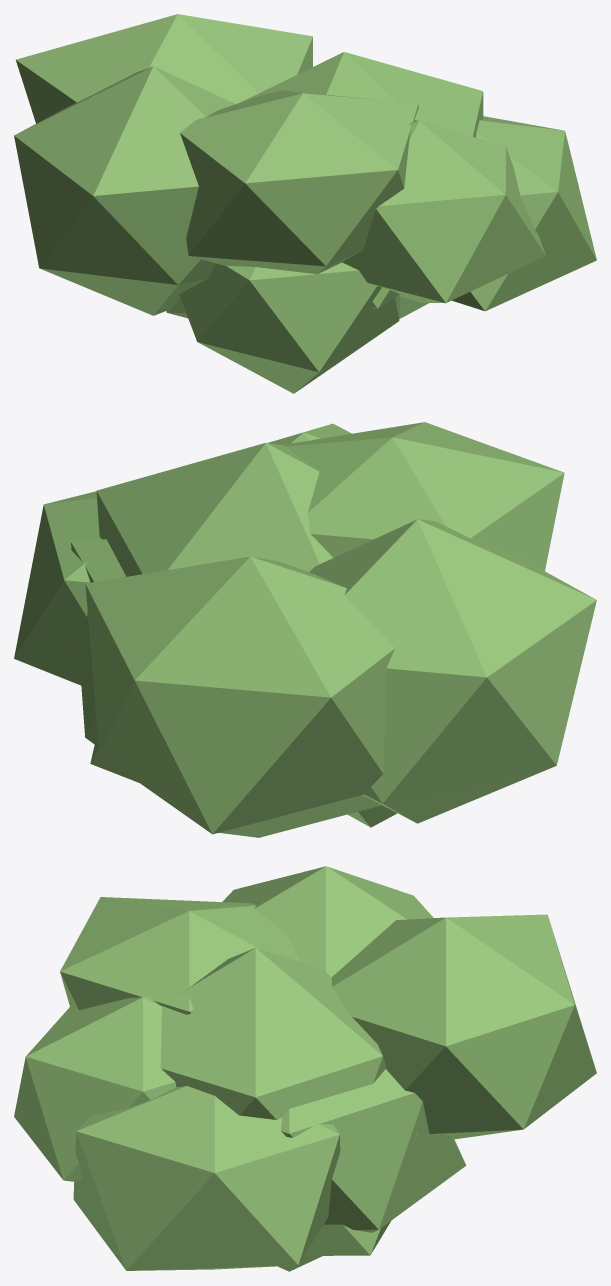
Rendered from bush_1.glb.
3 renders of one model, top to bottom at view 1: azimuth 30°, elevation 25°; view 2: azimuth 150°, elevation 25°; view 3: azimuth 270°, elevation 25°, orthographic. The views are drawn at different scales.
Visible parts, largest first — view 1: bush_1; view 2: bush_1; view 3: bush_1.
Boxes of the visible parts, x1,y1,x2,y2 form: bush_1: (14,14,596,393); bush_1: (14,422,596,837); bush_1: (14,866,596,1271).
Size of the model in its own units: 2.24 by 1.41 by 2.25.
